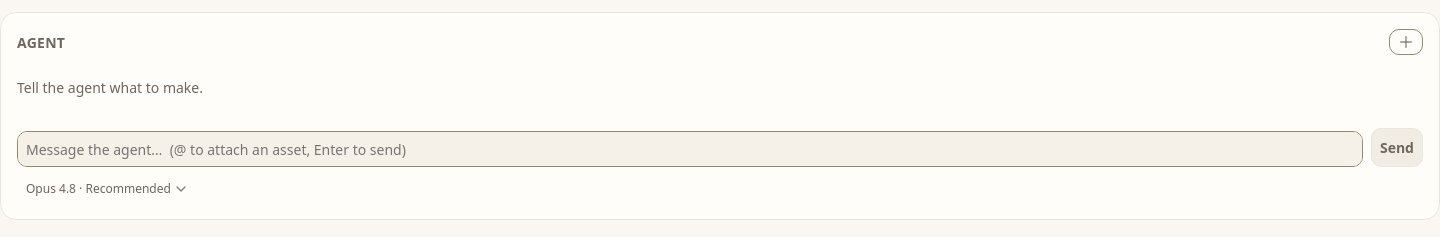
Scenario: ChatPanel @ mention menu › typing @ opens a listbox of the project assets, grouped and wired for a11y
The width and height of the screenshot is (1440, 237).
In the dropdown with class "composer-input": (690, 149) [17,131,1363,167], type "@"
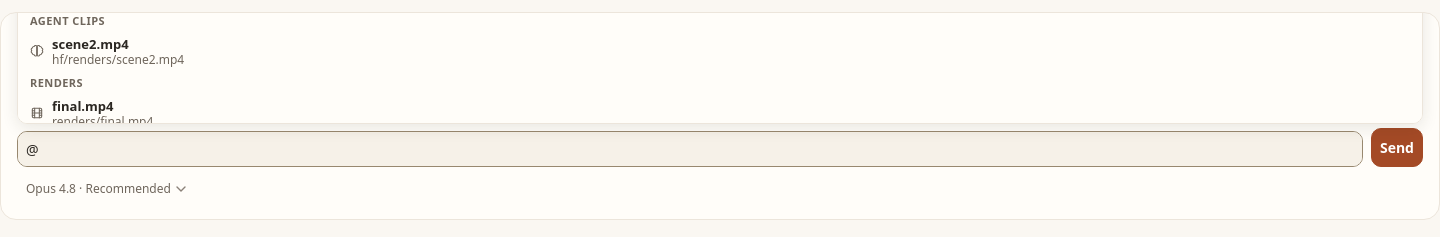
Check: the dropdown with class "composer-input" is expanded, box [17,131,1363,167]
